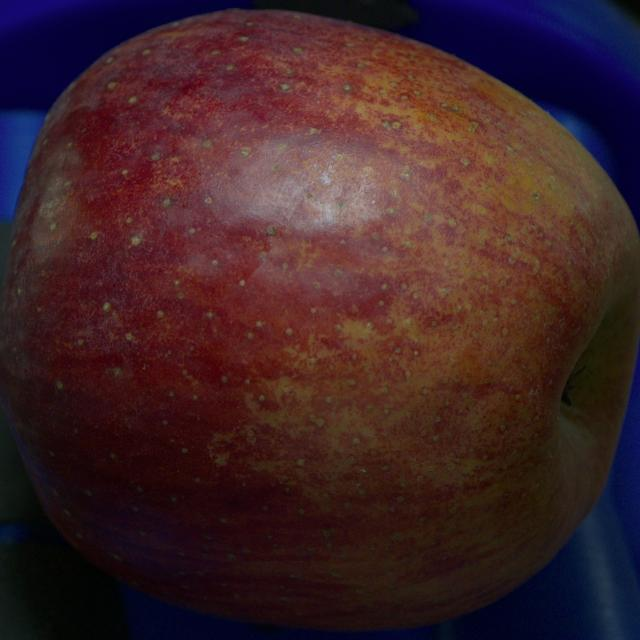apple: (0, 9, 639, 630)
